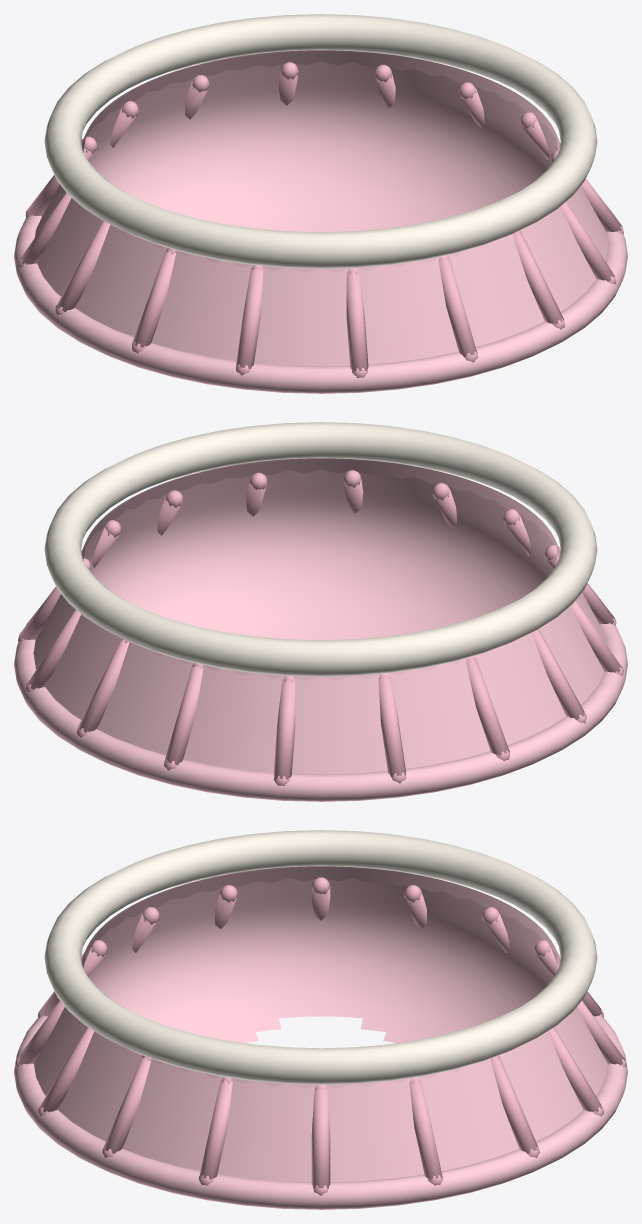
Rendered from skirt.glb.
The picture shows the model from 3 angles, top to bottom: view 1: azimuth 30°, elevation 25°; view 2: azimuth 150°, elevation 25°; view 3: azimuth 270°, elevation 25°; orthographic projection.
Visible parts, largest first — view 1: Body; view 2: Body; view 3: Body.
Boxes of the visible parts, bbox=[...] form: Body: bbox=[14, 14, 627, 393]; Body: bbox=[14, 422, 627, 801]; Body: bbox=[14, 830, 627, 1209].
Bounding box in the file's own units: 0.534 × 0.1934 × 0.534.
